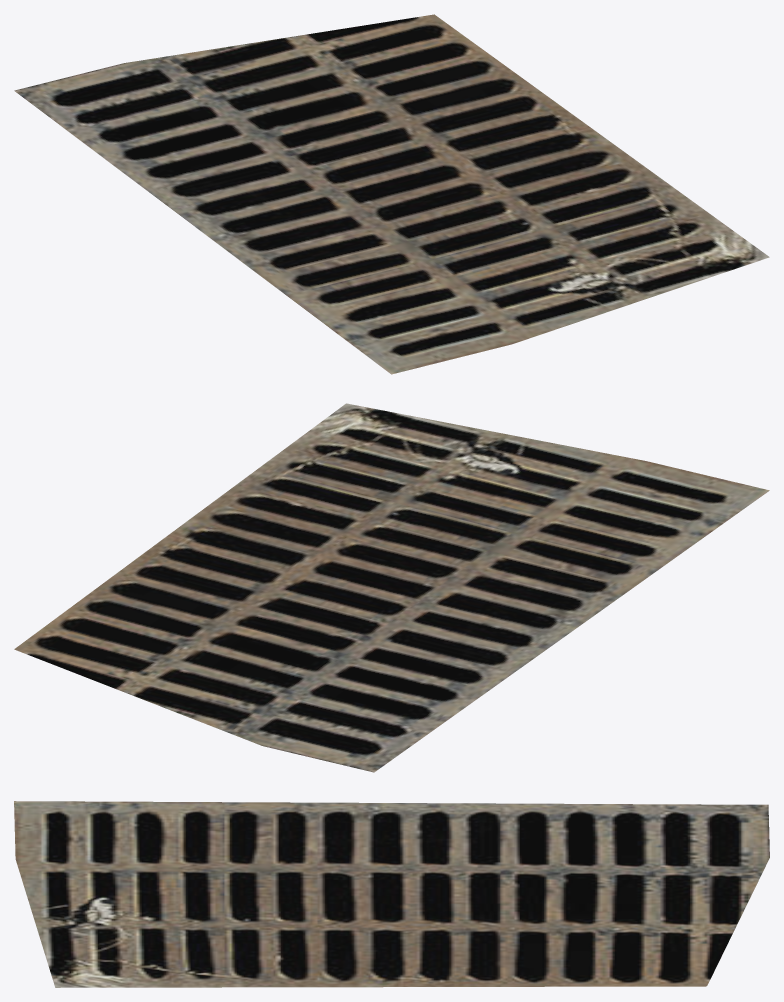
File: SM_Corridor_02_05.fbx
3 views of the same model, one above another, from view 1: azimuth 30°, elevation 25°; view 2: azimuth 150°, elevation 25°; view 3: azimuth 270°, elevation 25° (orthographic). The views are drawn at different scales.
Parts seen in each view (by area): view 1: SM_Corridor_02_05; view 2: SM_Corridor_02_05; view 3: SM_Corridor_02_05.
Boxes of the visible parts, x1,y1,x2,y2 form: SM_Corridor_02_05: (14,14,769,374); SM_Corridor_02_05: (14,403,769,772); SM_Corridor_02_05: (14,801,769,987).
Bounding box in the file's own units: 82.12 × 0.8551 × 137.
